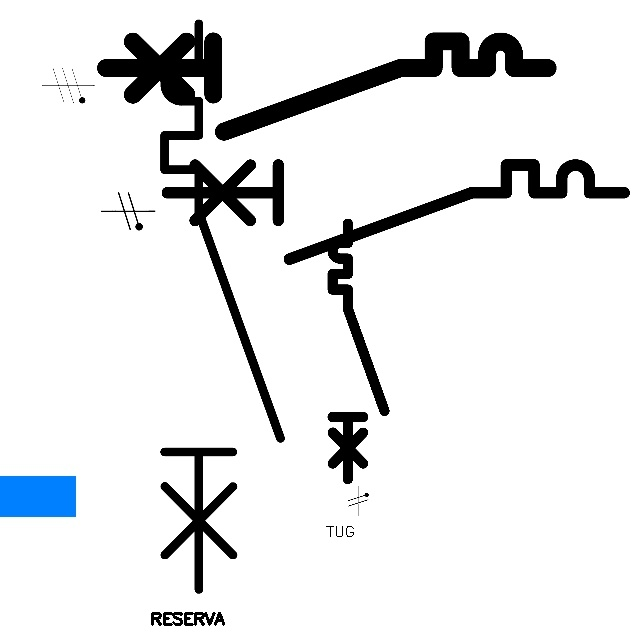interruptor_termomagnetico: (150, 9, 295, 603), (155, 153, 636, 270), (94, 30, 558, 143), (326, 217, 391, 485)
